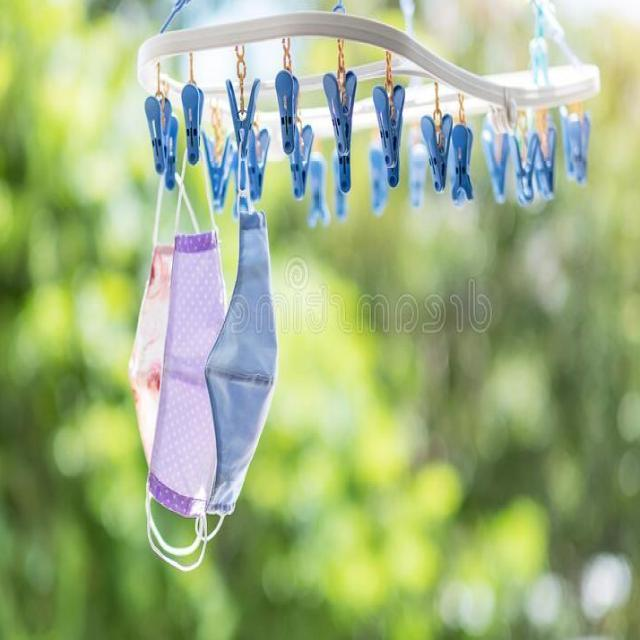clothes: (118, 212, 280, 569)
